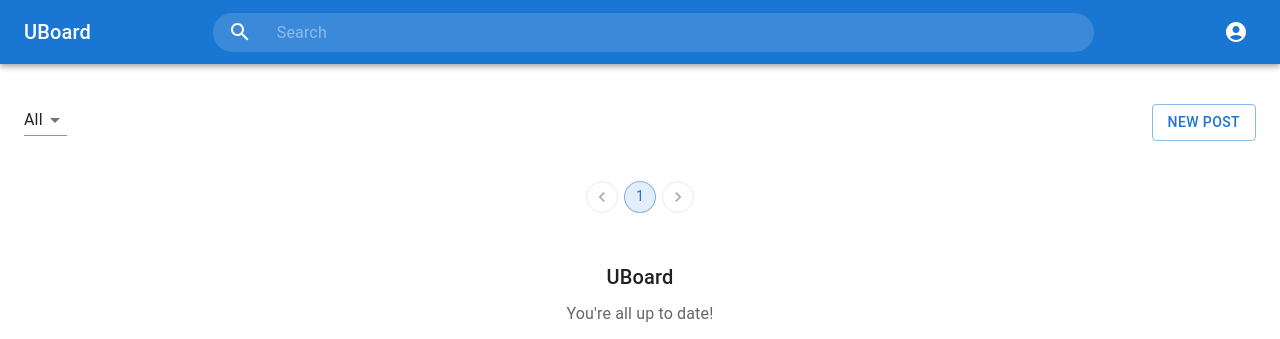
Dashboard Interaction › Account Menu properly opens
Check: the text "My Posts" is not shown
Check: the text "Logout" is not shown
menu open
Click the button with test id "test-acc-menu-icon" at point(1236, 32), box [1216,12,1256,52]
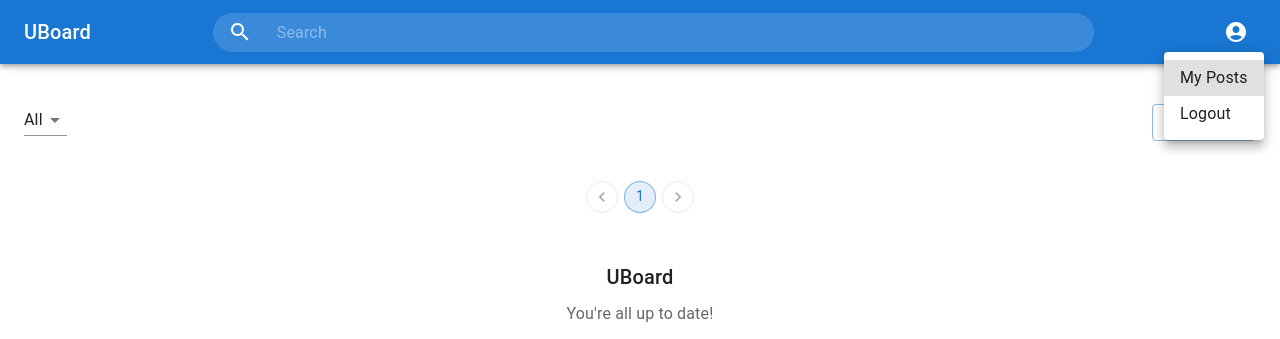
Check: the menu item "My Posts" is shown, box [1164,60,1264,96]
Check: the menu item "Logout" is shown, box [1180,104,1231,123]
